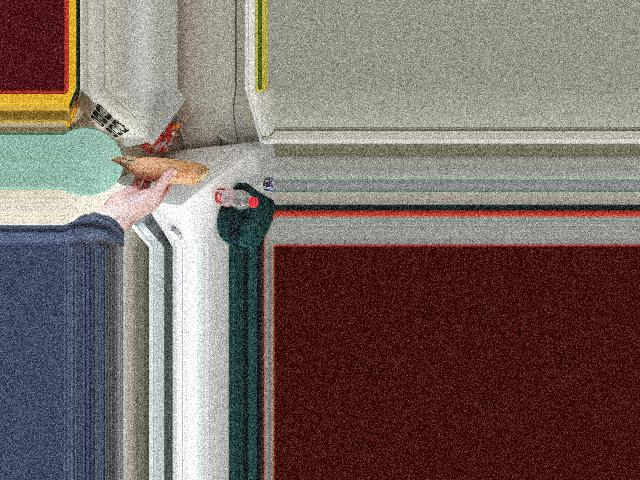sweet_potato: (109, 156, 202, 183)
